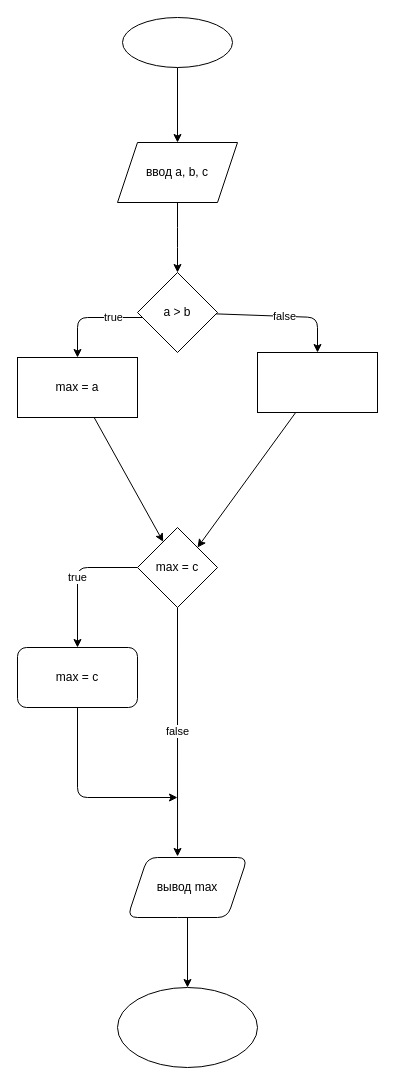
This 395x1085 diagram has some shape labels left out. The shapes that lost their labels are listed below. From the top down, each one's centre as x and y in pixels, then its label:
At (x=177, y=42): "start".
At (x=317, y=382): "max = b".
At (x=187, y=1027): "end".
